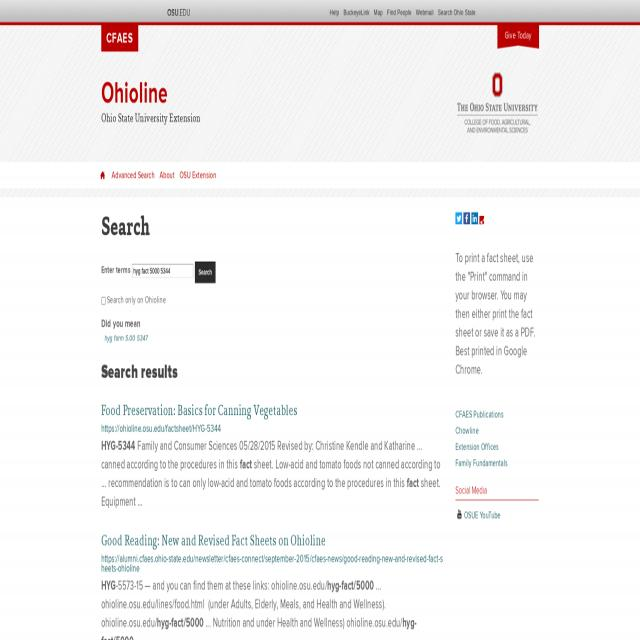button: (455, 70, 539, 135), (498, 25, 540, 49), (101, 26, 138, 52), (195, 262, 215, 283), (456, 213, 462, 224), (464, 213, 470, 224), (472, 213, 478, 224), (100, 170, 105, 180)
field: (132, 264, 194, 277), (101, 296, 105, 304)
